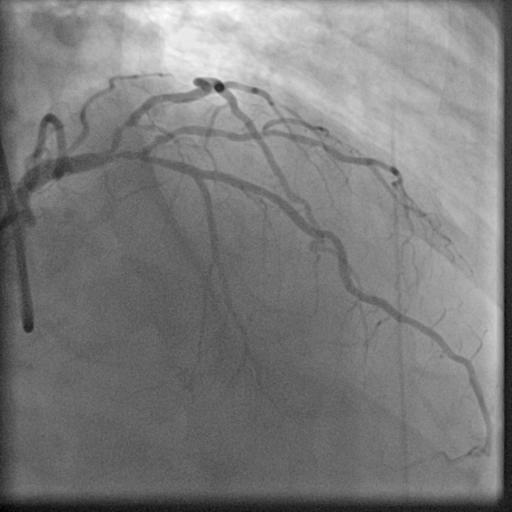Stenosis: (111, 117, 134, 137)
